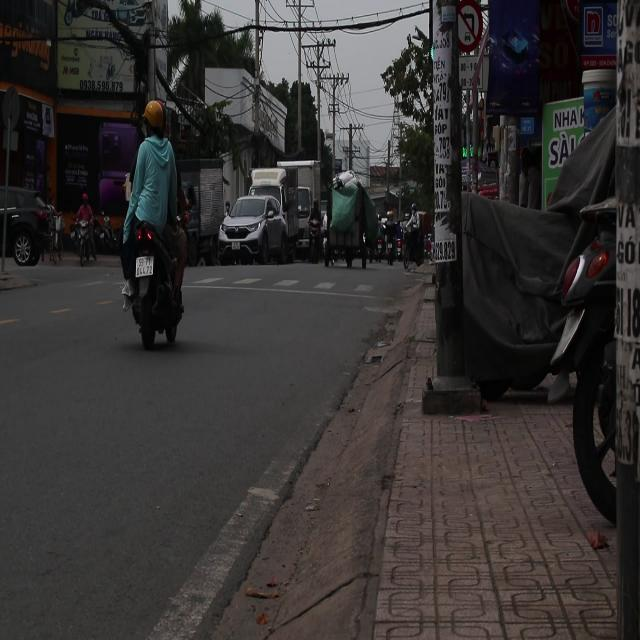car: (217, 196, 290, 265), (0, 186, 56, 266)
motorbike: (121, 214, 188, 349), (74, 216, 96, 275)
truck: (246, 164, 321, 258), (176, 162, 228, 267), (246, 169, 289, 215)
